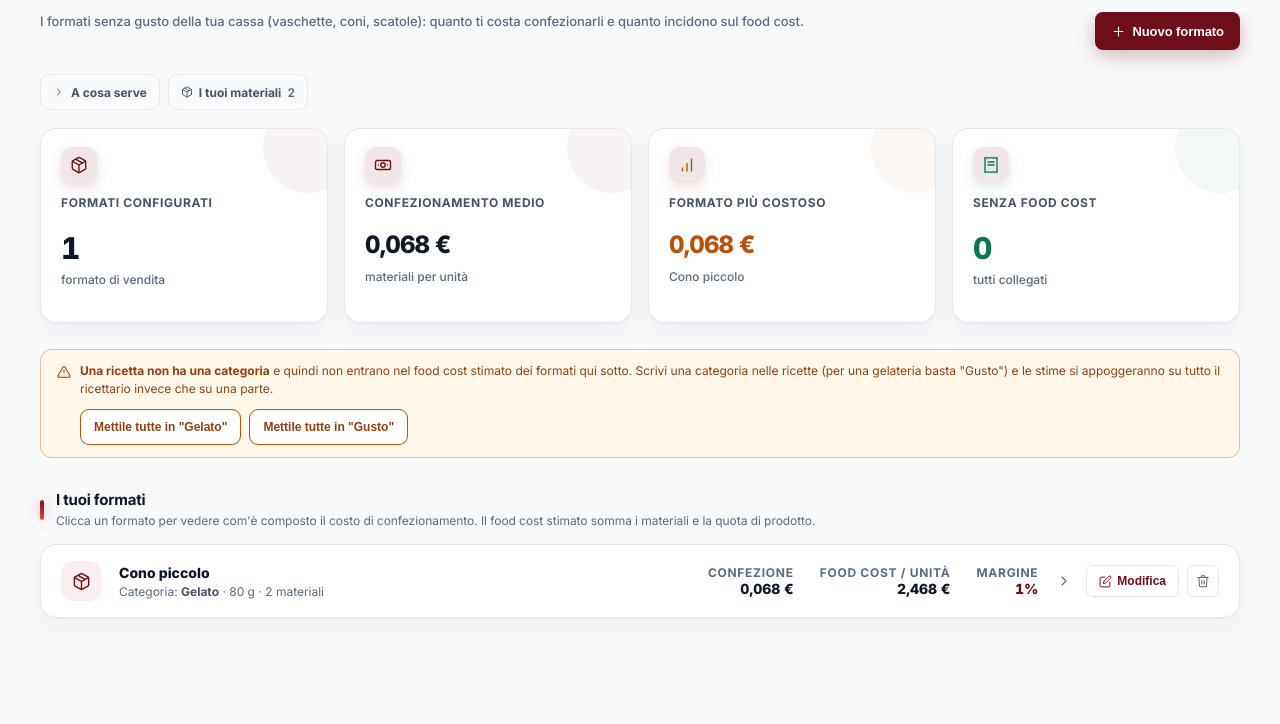
I materiali di confezionamento sono un elenco chiuso › i materiali definiti compaiono con il loro costo
What coordinates should you click on to do the following:
click the button with aria-label "Cono piccolo: apri il dettaglio del costo"
I would click on:
 (81, 581)
Its box is [61,561,1072,601].
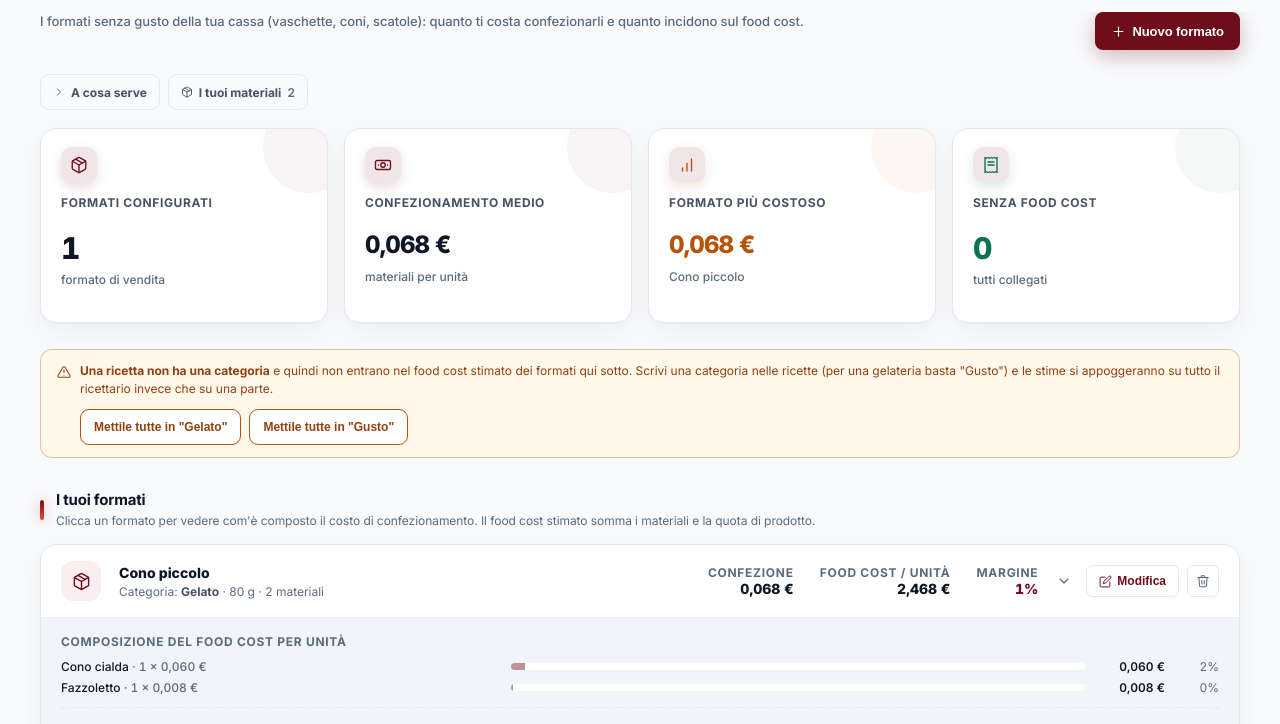
Result: the text "Cono cialda" is shown at [61,659,129,674]
Result: the text "Fazzoletto" is shown at [61,680,120,695]
